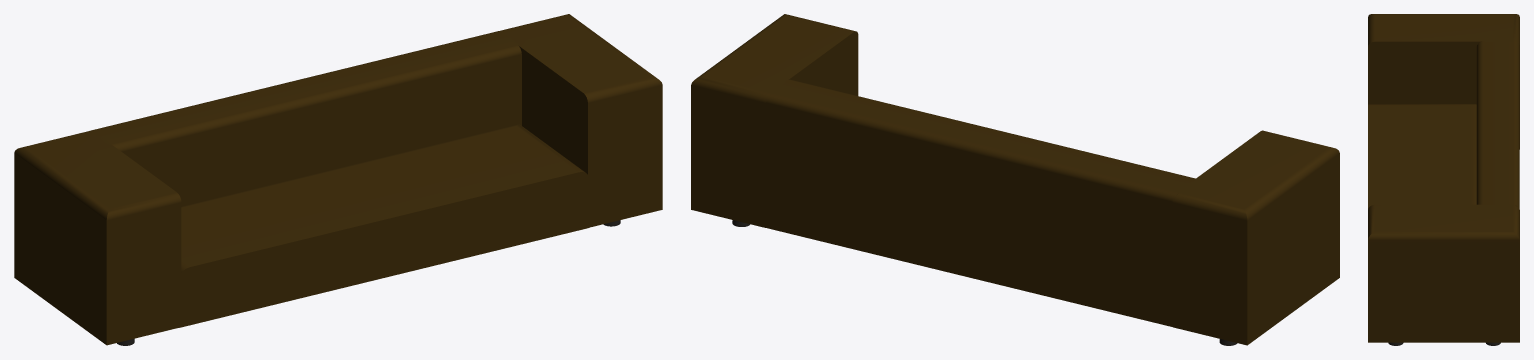
Rendered from sm_AlleyCouch.fbx.
3 renders of one model, left to right at view 1: azimuth 30°, elevation 25°; view 2: azimuth 150°, elevation 25°; view 3: azimuth 270°, elevation 25°, orthographic. The views are drawn at different scales.
Visible parts, largest first — view 1: couch; view 2: couch; view 3: couch.
Boxes of the visible parts, x1,y1,x2,y2 form: couch: (14, 14, 662, 345); couch: (691, 14, 1339, 345); couch: (1368, 14, 1519, 345).
Bounding box in the file's own units: 1294 × 330 × 373.
